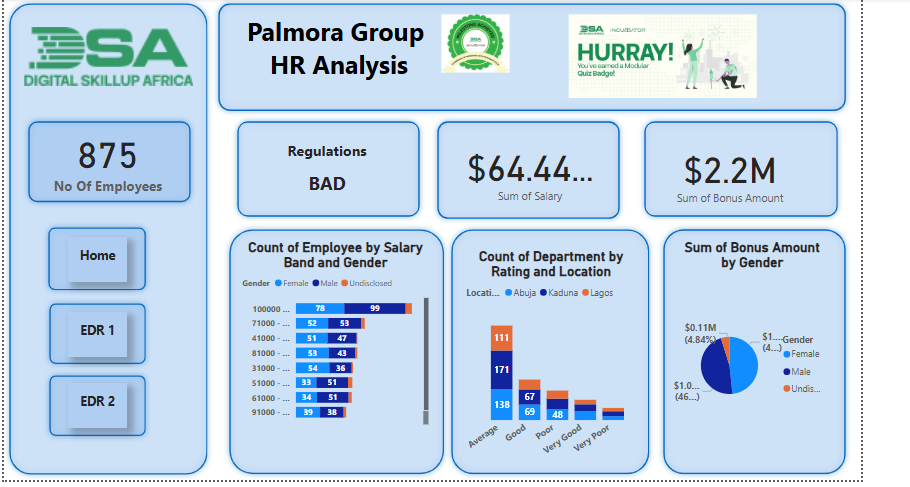

The page's visual inventory and layout, read from the dashboard file:
{"tool":"powerbi","page":{"name":"EDR 2","canvas":[1280,720],"ordinal":2},"visuals":[{"type":"shape","box":[0,0,312,720],"z":0},{"type":"shape","box":[311.7,0,953.3,176.7],"z":1000},{"type":"textbox","box":[351.7,20,288.3,135],"z":2000},{"type":"shape","box":[640,176.7,288.3,161.7],"z":3000},{"type":"card","fields":{"Values":["Palmoria Group emp-data 2.Salary"]},"box":[685,193.3,200,130],"z":4000},{"type":"shape","box":[948.3,176.7,305,158.3],"z":5000},{"type":"card","fields":{"Values":["Palmoria Group emp-data 2.Bonus Amount"]},"box":[976.7,195,215,130],"z":6000},{"type":"shape","box":[340,176.7,288.3,158.3],"z":7000},{"type":"shape","box":[328.3,338.3,336.7,381.7],"z":8000},{"type":"barChart","fields":{"Category":["Palmoria Group emp-data 2.Salary Band"],"Y":["Palmoria Group emp-data 2.Name"],"Series":["Palmoria Group emp-data 2.Gender"]},"box":[351,360,288.3,282.3],"z":9000},{"type":"shape","box":[660,338.3,311.7,381.7],"z":10000},{"type":"columnChart","fields":{"Y":["Palmoria Group emp-data 2.Department"],"Category":["Palmoria Group emp-data 2.Rating"],"Series":["Palmoria Group emp-data 2.Location"]},"box":[685,373.3,263.3,328.3],"z":11000},{"type":"shape","box":[976.7,338.3,288.3,381.7],"z":12000},{"type":"shape","box":[28.3,176.7,258.3,136.7],"z":13000},{"type":"card","fields":{"Values":["Palmoria Group emp-data 2.Name"]},"box":[48.3,176.7,215,130],"z":14000},{"type":"pieChart","fields":{"Y":["Palmoria Group emp-data 2.Bonus Amount"],"Category":["Palmoria Group emp-data 2.Gender"]},"box":[1000,360,236.7,331.7],"z":15000},{"type":"shape","box":[60,448.3,160,106.7],"z":16000},{"type":"shape","box":[58.3,335,161.7,110],"z":17000},{"type":"shape","box":[60,555,160,106.7],"z":18000},{"type":"textbox","box":[95,356.7,88.3,66.7],"z":19000},{"type":"textbox","box":[95,468.3,88.3,66.7],"z":20000},{"type":"textbox","box":[95,575,88.3,66.7],"z":21000},{"type":"image","box":[25,20,261.7,135],"z":22000},{"type":"image","box":[640,19.7,130.5,96.5],"z":23000},{"type":"image","box":[730,20,506.7,135],"z":24000},{"type":"textbox","box":[386.1,207.4,191.3,100.1],"z":25000}]}

Visuals, with their boxes on the page's 1280x720 design canvas (x1, y1, x2, y2). These are canvas units, not pixel positions in the 910x487 screenshot, which may show the page scaled, cropped or inside an application window:
shape: BBox(0, 0, 312, 720)
shape: BBox(312, 0, 1265, 177)
textbox: BBox(352, 20, 640, 155)
shape: BBox(640, 177, 928, 338)
card - Palmoria Group emp-data 2.Salary: BBox(685, 193, 885, 323)
shape: BBox(948, 177, 1253, 335)
card - Palmoria Group emp-data 2.Bonus Amount: BBox(977, 195, 1192, 325)
shape: BBox(340, 177, 628, 335)
shape: BBox(328, 338, 665, 720)
barChart - Palmoria Group emp-data 2.Salary Band x Palmoria Group emp-data 2.Name: BBox(351, 360, 639, 642)
shape: BBox(660, 338, 972, 720)
columnChart - Palmoria Group emp-data 2.Department x Palmoria Group emp-data 2.Rating: BBox(685, 373, 948, 702)
shape: BBox(977, 338, 1265, 720)
shape: BBox(28, 177, 287, 313)
card - Palmoria Group emp-data 2.Name: BBox(48, 177, 263, 307)
pieChart - Palmoria Group emp-data 2.Bonus Amount x Palmoria Group emp-data 2.Gender: BBox(1000, 360, 1237, 692)
shape: BBox(60, 448, 220, 555)
shape: BBox(58, 335, 220, 445)
shape: BBox(60, 555, 220, 662)
textbox: BBox(95, 357, 183, 423)
textbox: BBox(95, 468, 183, 535)
textbox: BBox(95, 575, 183, 642)
image: BBox(25, 20, 287, 155)
image: BBox(640, 20, 770, 116)
image: BBox(730, 20, 1237, 155)
textbox: BBox(386, 207, 577, 308)
